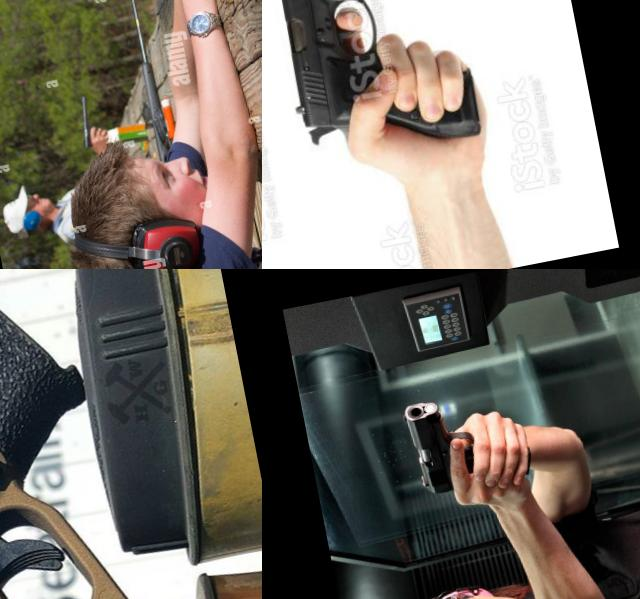handgun: (0, 269, 238, 599), (262, 0, 486, 171), (398, 379, 539, 502), (96, 0, 182, 72)
